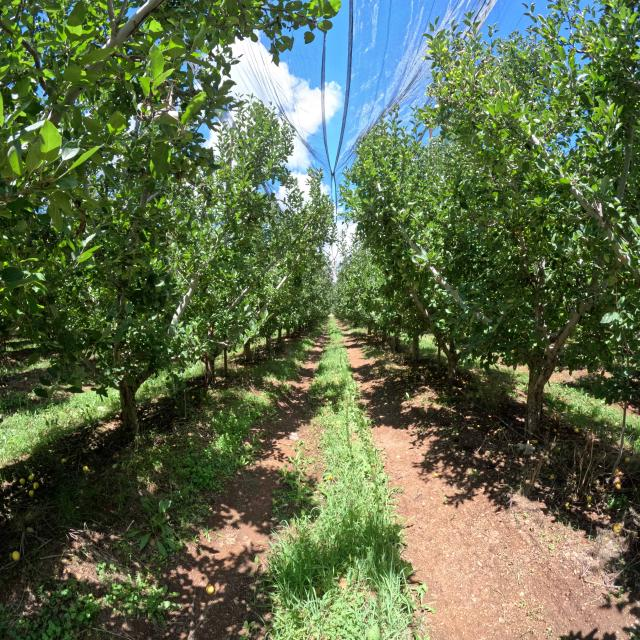-FireBlight-: (203, 324, 215, 335)
